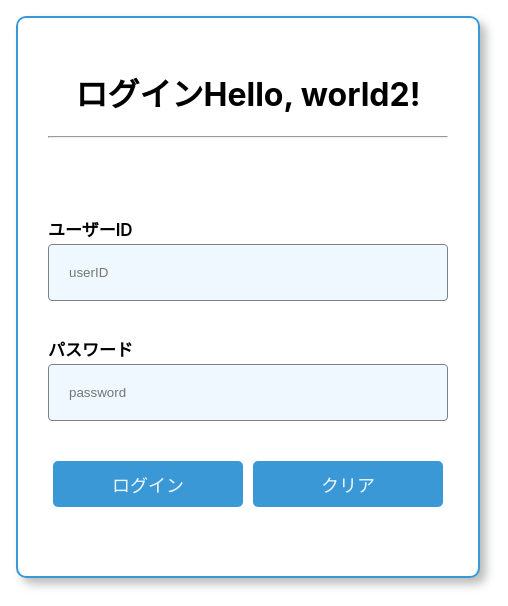
Test: Signin test › 未入力でログインボタン クリック
Click the button "ログイン": (148, 484) [53,461,243,507]
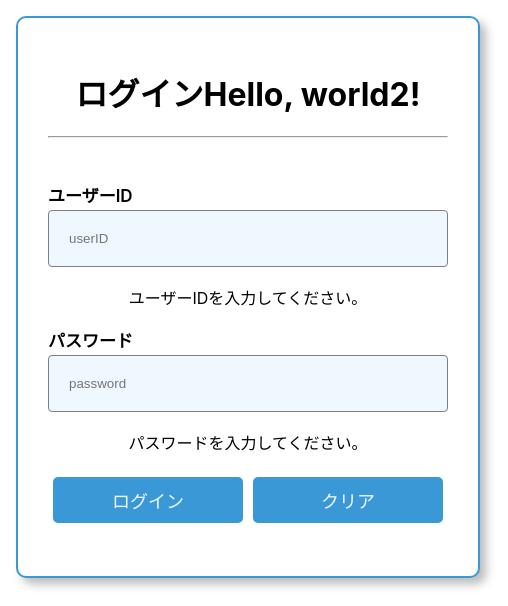
Expected: the text "ユーザーIDを入力してください。" is shown, [129,285,367,309]
Expected: the text "パスワードを入力してください。" is shown, [128,430,368,454]
